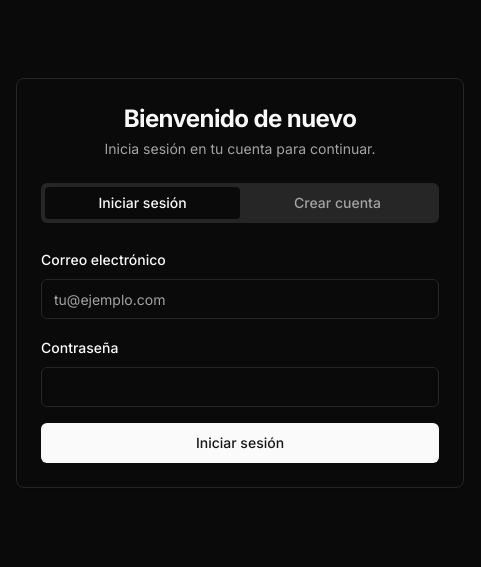
LoginPage form › shows translated rate limit error on signup (es)
The width and height of the screenshot is (481, 567).
Click the tab "Crear cuenta" at (338, 203), box [240,187,435,219]
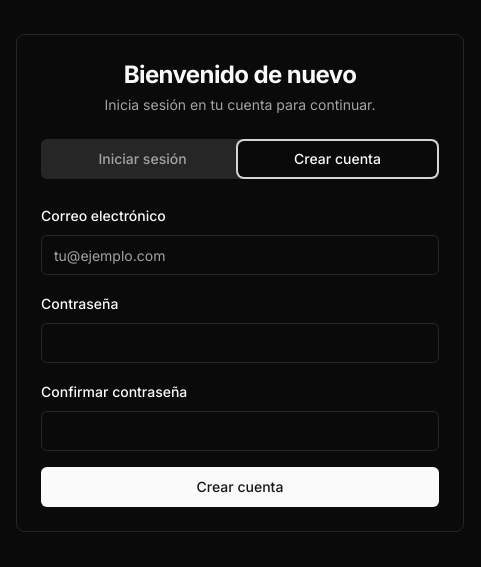
Type "new@b.com" into the field labelled "Correo electrónico" at (240, 255), box [41,235,439,275]
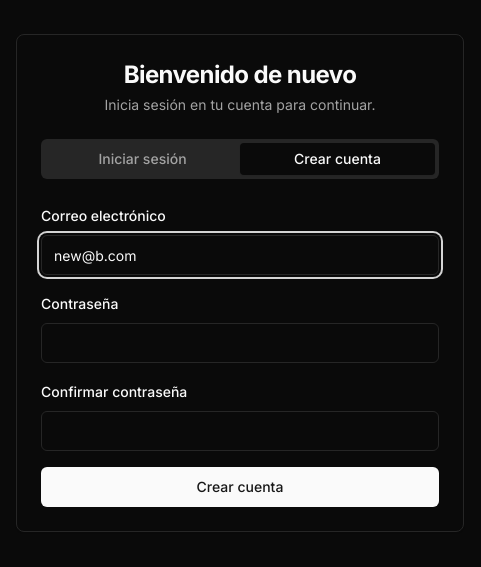
Type "secret123" into the password field labelled "Contraseña" at (240, 343), box [41,323,439,363]
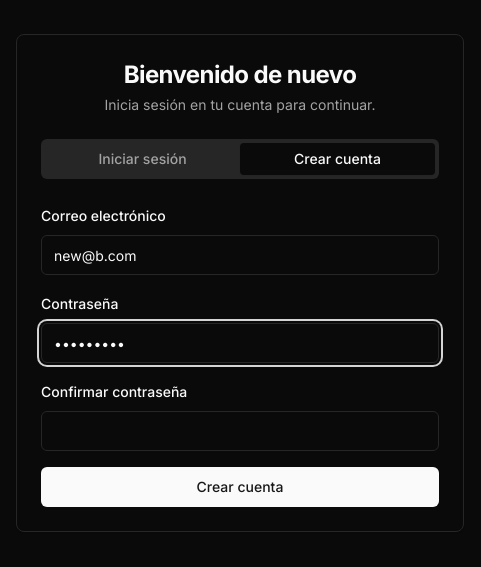
Type "secret123" into the password field labelled "Confirmar contraseña" at (240, 431), box [41,411,439,451]
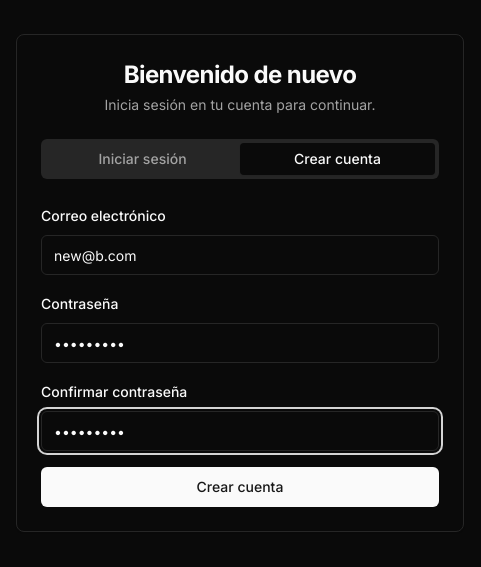
Click the button "Crear cuenta" at (240, 487), box [41,467,439,507]
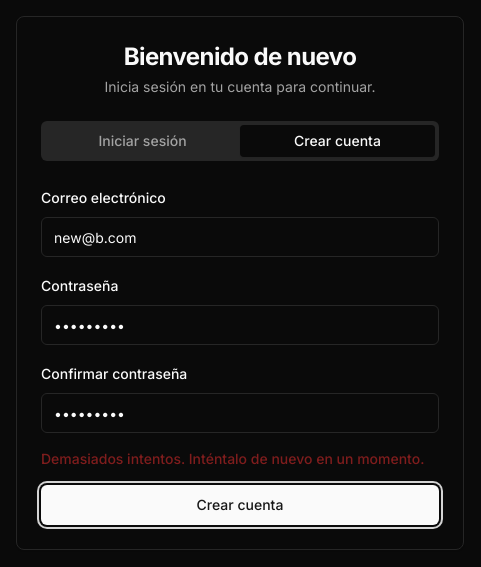
Now the text "Demasiados intentos. Inténtalo de nuevo en un momento." is shown, box [41,449,439,469]
